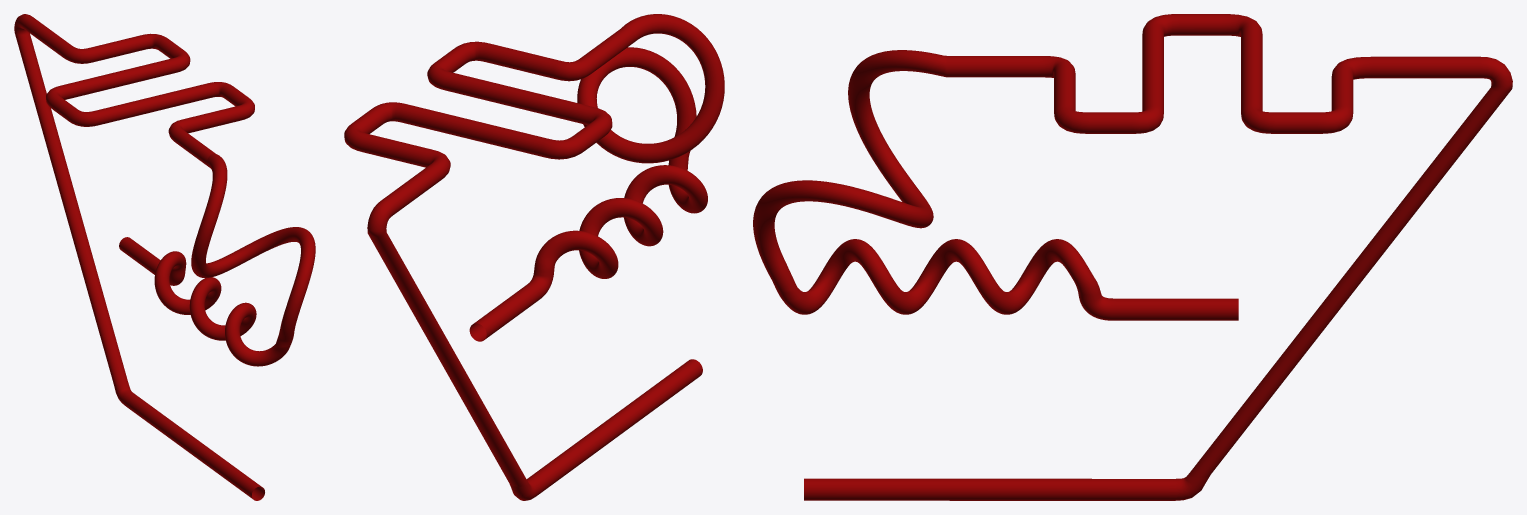
The model's file is Chang.fbx.
The picture shows the model from 3 angles, left to right: view 1: azimuth 30°, elevation 25°; view 2: azimuth 150°, elevation 25°; view 3: azimuth 270°, elevation 25°; orthographic projection. The views are drawn at different scales.
Visible parts, largest first — view 1: polySurface4; view 2: polySurface4; view 3: polySurface4.
Part boxes in pixels (x1,y1,x2,y2): polySurface4: (14, 14, 315, 500); polySurface4: (344, 14, 724, 500); polySurface4: (753, 14, 1512, 500).
Bounding box in the file's own units: 14.68 × 28.54 × 43.85.
